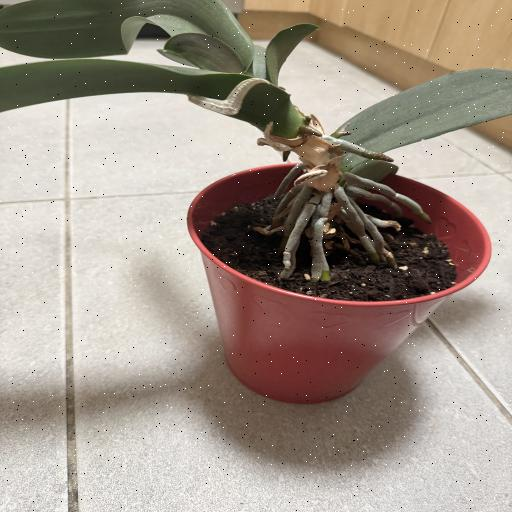Plant Pot: (186, 161, 493, 404)
